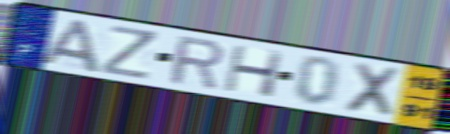0: (294, 55, 343, 108)
A: (37, 17, 103, 75)
H: (221, 43, 286, 100)
R: (168, 34, 225, 92)
X: (340, 59, 405, 121)
Z: (100, 23, 160, 82)
